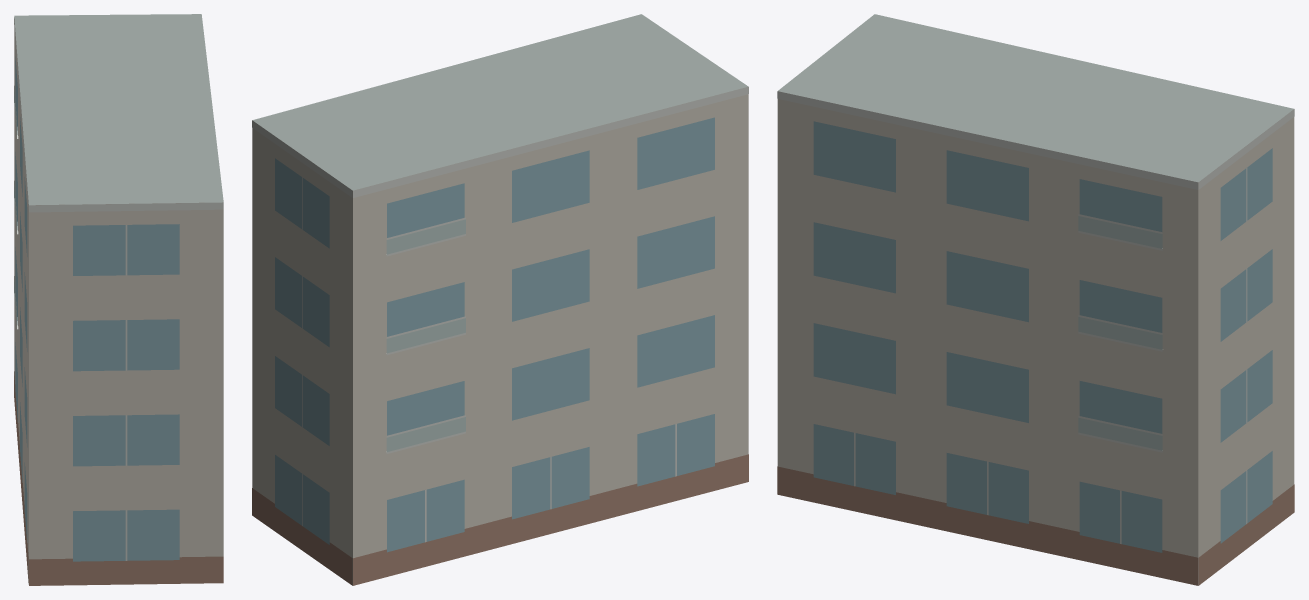
Rendered from survey-upis-32727881.glb.
The picture shows the model from 3 angles, left to right: view 1: azimuth 30°, elevation 25°; view 2: azimuth 150°, elevation 25°; view 3: azimuth 270°, elevation 25°; orthographic projection. The views are drawn at different scales.
Parts seen in each view (by area): view 1: survey-upis-32727881.tmp; view 2: survey-upis-32727881.tmp; view 3: survey-upis-32727881.tmp.
Boxes of the visible parts, x1=… form: survey-upis-32727881.tmp: x1=14, y1=14, x2=223, y2=585; survey-upis-32727881.tmp: x1=252, y1=14, x2=748, y2=585; survey-upis-32727881.tmp: x1=777, y1=14, x2=1294, y2=585.
Size of the model in its own units: 11.46 by 12.8 by 14.87.
